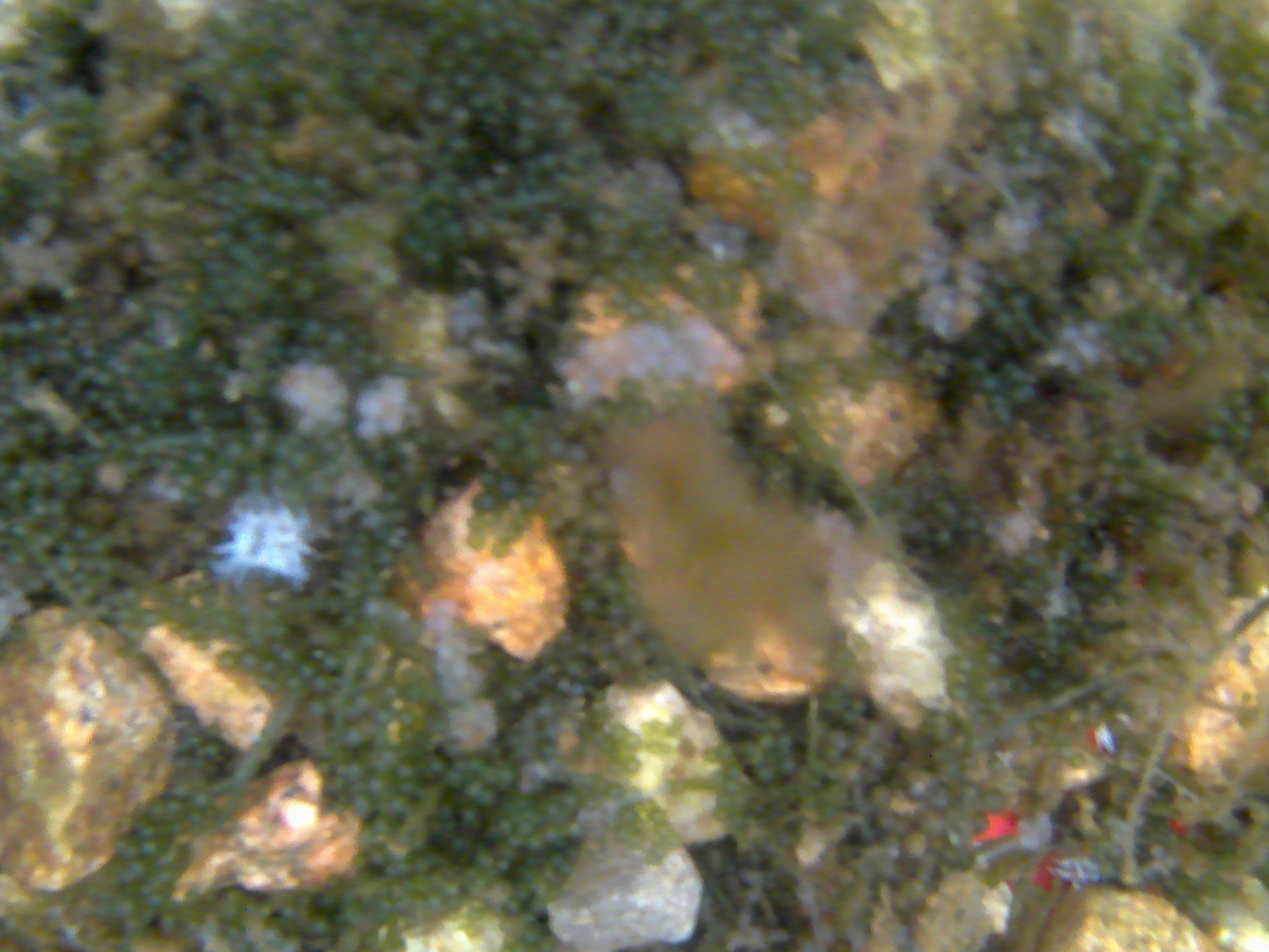Harvestable: (371, 747, 400, 774), (382, 793, 409, 817), (343, 724, 368, 748), (522, 442, 546, 466), (293, 277, 318, 300), (362, 597, 387, 620), (473, 491, 497, 514), (368, 773, 391, 797), (1158, 133, 1181, 156), (352, 793, 375, 816), (238, 650, 261, 673), (577, 593, 600, 616), (223, 440, 246, 463), (565, 657, 588, 680), (500, 405, 523, 428), (249, 428, 272, 451), (216, 651, 238, 675), (221, 120, 245, 142), (352, 692, 376, 714), (307, 696, 329, 719), (270, 463, 293, 485), (781, 439, 804, 461), (567, 443, 589, 466), (302, 319, 324, 341), (312, 672, 334, 694), (308, 915, 330, 937), (1134, 125, 1156, 147), (950, 683, 972, 705), (346, 760, 368, 782), (453, 32, 476, 53), (395, 438, 418, 459), (449, 106, 471, 127), (311, 174, 333, 195), (546, 92, 568, 113), (475, 175, 497, 196), (279, 646, 301, 667), (290, 91, 312, 112), (494, 434, 516, 455), (527, 406, 549, 427), (517, 421, 539, 442), (426, 95, 449, 115), (498, 477, 519, 498), (540, 722, 561, 743), (327, 329, 348, 350), (156, 394, 177, 415), (994, 311, 1015, 332), (1013, 384, 1035, 404), (1024, 665, 1046, 685), (356, 631, 378, 651), (936, 499, 958, 519), (165, 798, 185, 819), (297, 660, 318, 680), (396, 761, 417, 781), (1216, 927, 1236, 948), (128, 858, 148, 879), (514, 134, 535, 154), (1174, 117, 1194, 138), (421, 248, 442, 268), (372, 817, 393, 837), (248, 145, 269, 165), (426, 892, 446, 913), (461, 807, 481, 828), (205, 480, 226, 500), (403, 234, 424, 254), (375, 547, 396, 567), (477, 786, 497, 807), (448, 134, 470, 153), (184, 379, 204, 399), (1038, 134, 1058, 154), (454, 71, 475, 90), (444, 220, 465, 239), (518, 114, 539, 133), (217, 466, 238, 485), (187, 406, 208, 425), (1098, 460, 1119, 479), (160, 912, 179, 933), (1008, 292, 1029, 311), (248, 124, 269, 143), (1233, 423, 1252, 443), (260, 658, 280, 677), (4, 478, 24, 497), (47, 499, 67, 518), (322, 652, 341, 672), (1134, 153, 1154, 172), (523, 926, 543, 945), (479, 469, 498, 489), (469, 91, 490, 109), (540, 151, 559, 170), (140, 838, 159, 857), (147, 890, 166, 909), (193, 791, 212, 810), (456, 185, 475, 204), (980, 374, 1000, 392), (177, 472, 197, 490), (1207, 423, 1226, 441), (381, 683, 400, 701), (1250, 99, 1268, 118), (427, 756, 446, 774), (126, 422, 144, 440), (1239, 407, 1257, 425), (757, 765, 775, 783), (779, 757, 797, 775), (369, 848, 387, 866), (149, 800, 166, 819), (375, 708, 393, 725), (936, 529, 953, 547), (526, 834, 543, 852), (241, 170, 259, 187), (286, 675, 304, 692), (1231, 391, 1249, 408), (1133, 353, 1150, 371), (970, 357, 988, 374), (469, 534, 486, 552), (398, 779, 417, 795), (759, 733, 776, 750), (1118, 344, 1135, 361), (768, 715, 785, 732), (48, 314, 66, 330), (962, 515, 980, 531), (95, 370, 113, 386), (777, 734, 793, 751), (1155, 118, 1172, 134), (507, 833, 524, 849), (123, 844, 139, 860), (518, 820, 534, 836), (188, 810, 204, 825), (205, 741, 221, 756), (626, 734, 642, 749), (612, 724, 627, 740), (651, 809, 666, 824), (391, 698, 406, 713), (86, 389, 101, 403), (642, 798, 657, 812), (627, 760, 641, 774), (609, 761, 623, 775)
Whitening: (579, 341, 602, 364), (645, 351, 668, 374), (669, 351, 690, 376), (327, 388, 350, 410), (1076, 342, 1099, 364), (555, 356, 577, 378), (360, 393, 381, 416), (284, 381, 301, 406), (317, 366, 336, 388), (1080, 322, 1100, 342), (359, 419, 376, 439), (385, 413, 401, 434), (1058, 329, 1076, 347), (629, 360, 645, 380), (1047, 349, 1065, 366), (305, 389, 323, 406), (389, 384, 405, 403), (329, 410, 345, 428), (707, 342, 723, 360), (699, 326, 720, 339), (293, 368, 310, 384), (693, 370, 710, 386), (1067, 361, 1082, 377), (566, 379, 582, 394), (301, 419, 316, 433), (726, 353, 738, 370), (312, 408, 327, 420)
